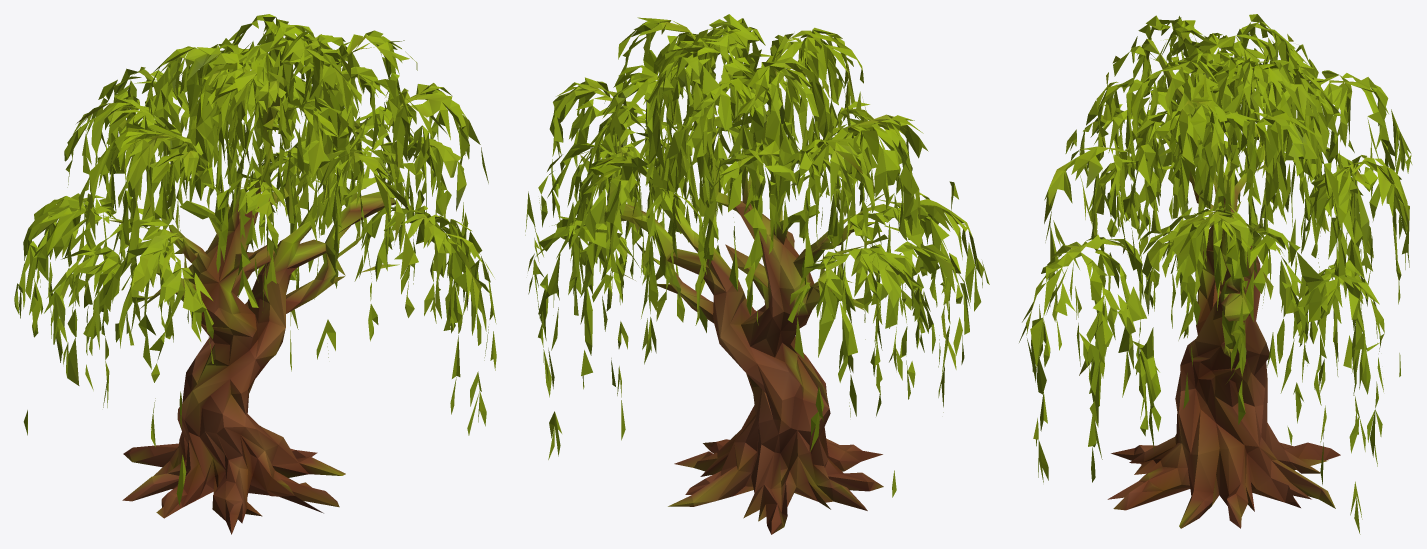
Rendered from lib_tp_lieutang.vc.glb.
3 renders of one model, left to right at view 1: azimuth 30°, elevation 25°; view 2: azimuth 150°, elevation 25°; view 3: azimuth 270°, elevation 25°, orthographic. The views are drawn at different scales.
Visible parts, largest first — view 1: lib_tp_lieutang; view 2: lib_tp_lieutang; view 3: lib_tp_lieutang.
Boxes of the visible parts, x1,y1,x2,y2 form: lib_tp_lieutang: (14, 14, 496, 534); lib_tp_lieutang: (525, 14, 989, 534); lib_tp_lieutang: (1019, 14, 1412, 534).
Size of the model in its own units: 1.88 by 1.87 by 1.44.
